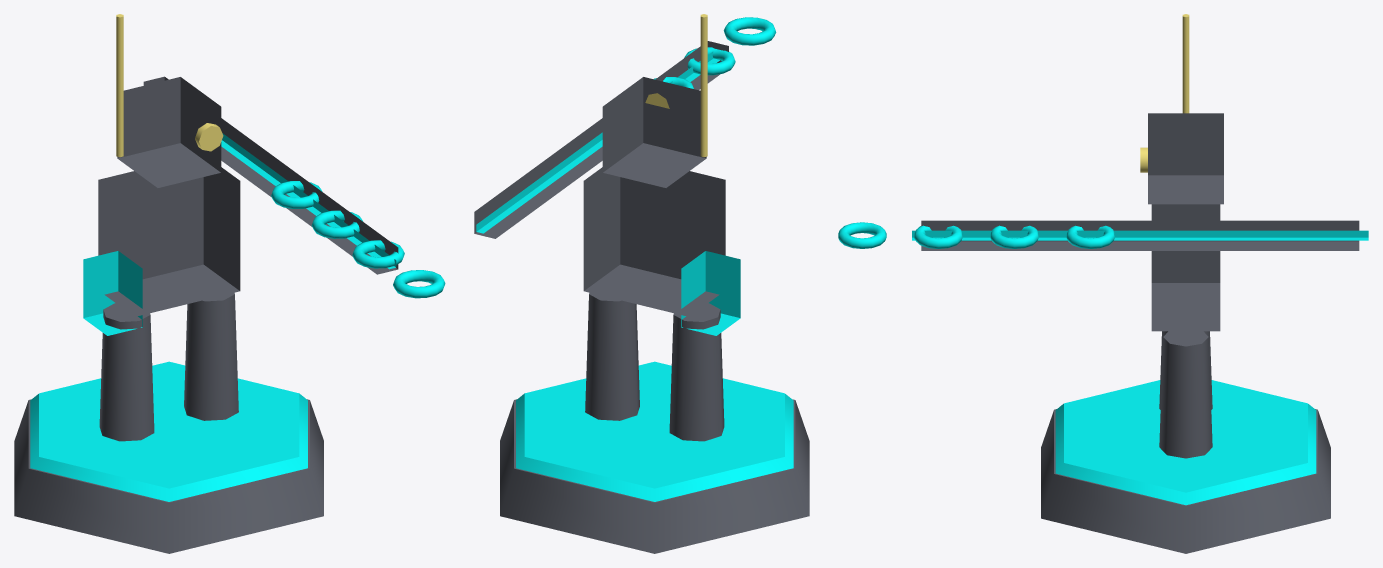
Rendered from railgun_bishop.glb.
3 views of the same model, side by side, from view 1: azimuth 30°, elevation 25°; view 2: azimuth 150°, elevation 25°; view 3: azimuth 270°, elevation 25° (orthographic). The views are drawn at different scales.
Visible parts, largest first — view 1: railgun_bishop; view 2: railgun_bishop; view 3: railgun_bishop.
Boxes of the visible parts, x1,y1,x2,y2 form: railgun_bishop: [14, 14, 445, 553]; railgun_bishop: [474, 14, 809, 553]; railgun_bishop: [838, 14, 1368, 553].
Size of the model in its own units: 0.88 by 1.29 by 1.39.
